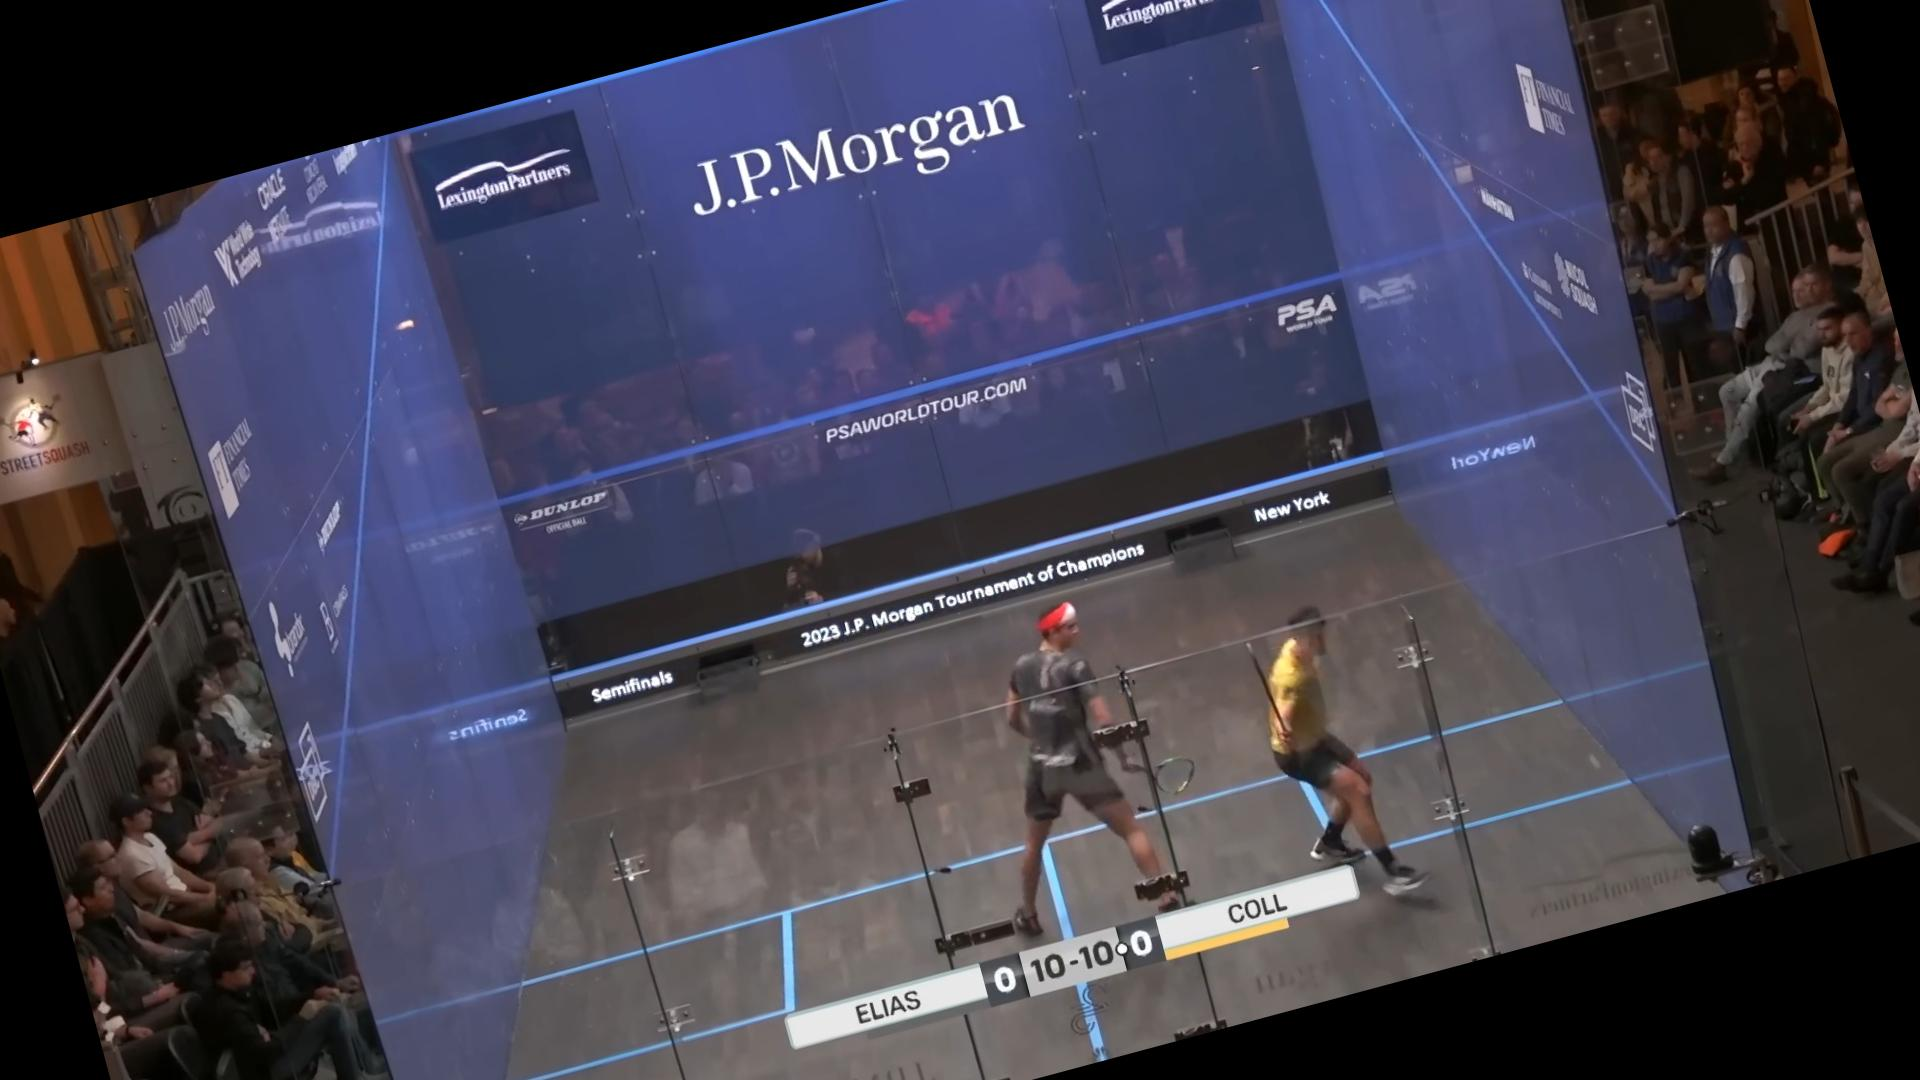Racket: (1133, 748, 1209, 808)
